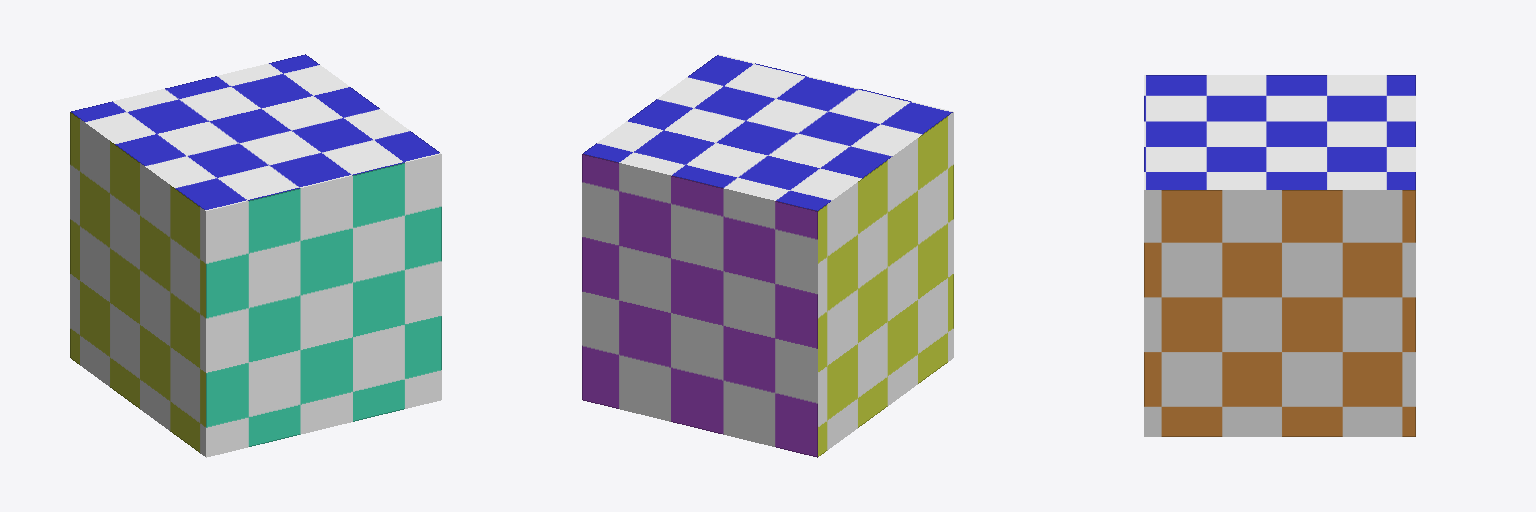
3 views of the same model, side by side, from view 1: azimuth 30°, elevation 25°; view 2: azimuth 150°, elevation 25°; view 3: azimuth 270°, elevation 25° (orthographic).
Visible parts, largest first — view 1: reference_cube_inverted; view 2: reference_cube_inverted; view 3: reference_cube_inverted.
Part boxes in pixels (bbox=[...]): reference_cube_inverted: bbox=[70, 54, 441, 457]; reference_cube_inverted: bbox=[582, 54, 953, 457]; reference_cube_inverted: bbox=[1144, 75, 1415, 436].
Bounding box in the file's own units: 24.75 × 24.75 × 24.75.
Materials: 1 (1 with a texture image).